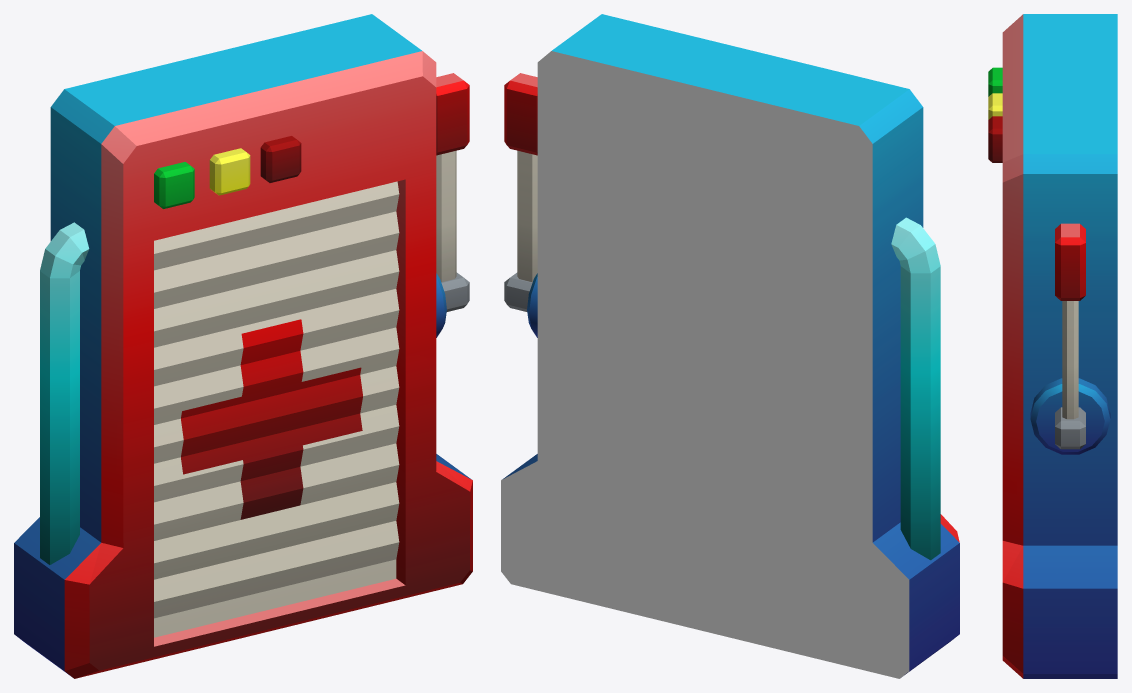
The model's file is First_Aid_Kit_Wall_2.fbx.
The picture shows the model from 3 angles, left to right: view 1: azimuth 30°, elevation 25°; view 2: azimuth 150°, elevation 25°; view 3: azimuth 270°, elevation 25°; orthographic projection. The views are drawn at different scales.
Visible parts, largest first — view 1: Cube.003; view 2: Cube.003; view 3: Cube.003.
Part boxes in pixels (bbox=[...]): Cube.003: bbox=[14, 14, 472, 678]; Cube.003: bbox=[501, 14, 959, 678]; Cube.003: bbox=[988, 14, 1117, 678].
Bounding box in the file's own units: 47.6 × 58.12 × 13.43.
